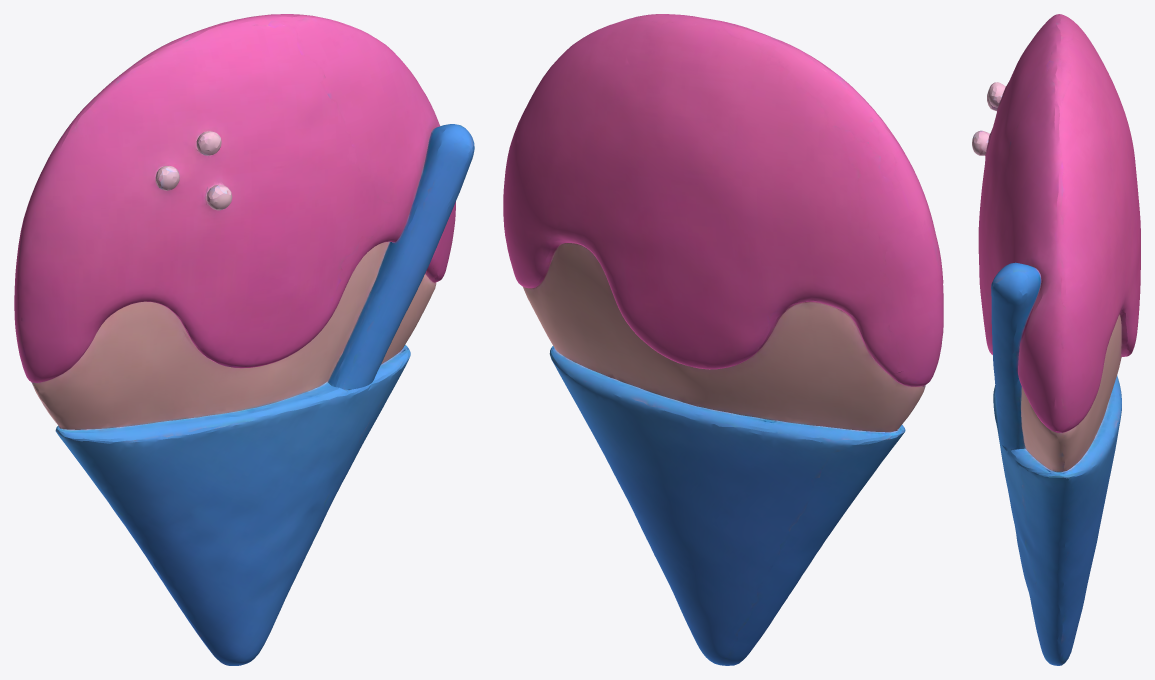
File: shaved-ice.glb
3 renders of one model, left to right at view 1: azimuth 30°, elevation 25°; view 2: azimuth 150°, elevation 25°; view 3: azimuth 270°, elevation 25°, orthographic. The views are drawn at different scales.
Parts seen in each view (by area): view 1: Mesh; view 2: Mesh; view 3: Mesh.
Part boxes in pixels (left/top/right/bottom): Mesh: left=14, top=14, right=474, bottom=665; Mesh: left=503, top=14, right=943, bottom=665; Mesh: left=972, top=14, right=1140, bottom=665.
Bounding box in the file's own units: 0.7102 × 1 × 0.247.
1 material, 1 textured.
